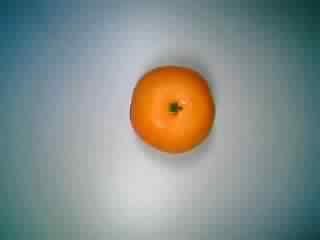orange: (126, 62, 221, 156)
